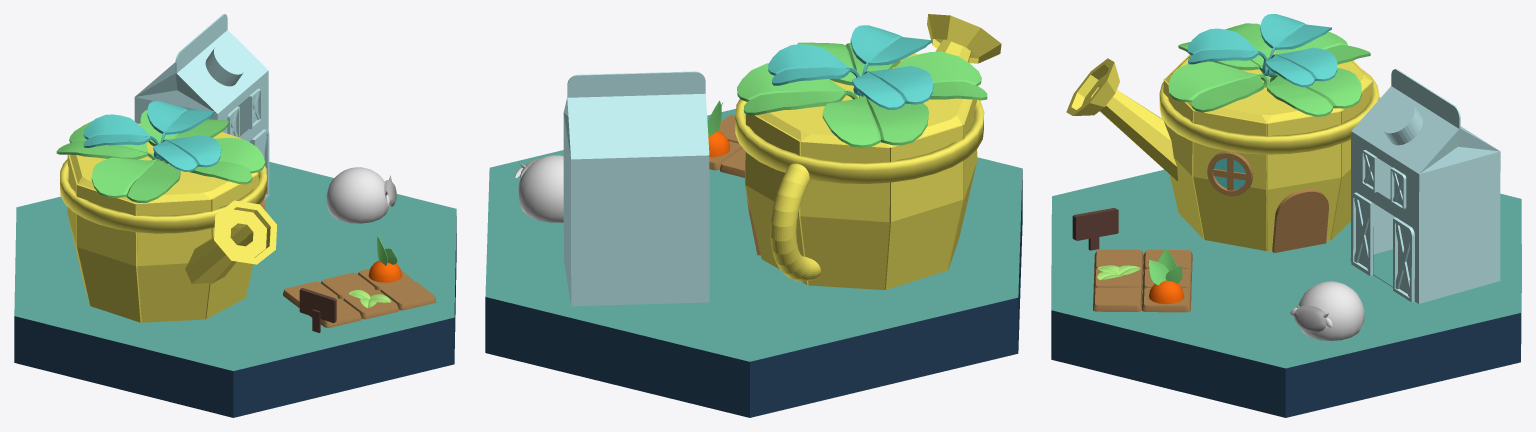
The model's file is Macro - farm barn lv3.fbx.
3 renders of one model, left to right at view 1: azimuth 30°, elevation 25°; view 2: azimuth 150°, elevation 25°; view 3: azimuth 270°, elevation 25°, orthographic. The views are drawn at different scales.
Visible parts, largest first — view 1: Cylinder.154, Cube.020, Milk_Carton_packet.002, Cube.012, Cube.047, Plane.009, Cube.046, Sphere.011, Plane.014, Plane.015, Plane.016, Cube.045 (+6 smaller); view 2: Cylinder.154, Milk_Carton_packet.002, Cube.020, Cube.047, Plane.005, Cube.005, Plane.020, Plane.016, Sphere.011, Plane.009, Plane.010, Plane.015 (+4 smaller); view 3: Cylinder.154, Milk_Carton_packet.002, Cube.020, Cube.012, Cube.047, Plane.014, Cube.033, Cube.045, Plane.020, Sphere.011, Plane.010, Plane.015 (+9 smaller).
Part boxes in pixels (bbox=[...]): Cylinder.154: bbox=[14, 162, 456, 417]; Cube.020: bbox=[67, 123, 258, 322]; Milk_Carton_packet.002: bbox=[134, 14, 269, 200]; Cube.012: bbox=[283, 268, 436, 327]; Cube.047: bbox=[60, 159, 266, 233]; Plane.009: bbox=[91, 157, 180, 202]; Cube.046: bbox=[214, 200, 276, 264]; Sphere.011: bbox=[326, 167, 388, 223]; Plane.014: bbox=[164, 138, 265, 184]; Plane.015: bbox=[153, 135, 221, 171]; Plane.016: bbox=[83, 114, 158, 159]; Cube.045: bbox=[185, 227, 247, 283]; Cylinder.154: bbox=[485, 108, 1022, 417]; Milk_Carton_packet.002: bbox=[563, 71, 709, 306]; Cube.020: bbox=[745, 53, 977, 289]; Cube.047: bbox=[735, 99, 984, 183]; Plane.005: bbox=[822, 95, 928, 147]; Cube.005: bbox=[770, 163, 820, 281]; Plane.020: bbox=[737, 63, 857, 115]; Plane.016: bbox=[852, 66, 933, 109]; Sphere.011: bbox=[518, 155, 563, 222]; Plane.009: bbox=[894, 51, 987, 100]; Plane.010: bbox=[768, 44, 860, 95]; Plane.015: bbox=[850, 25, 932, 75]; Cylinder.154: bbox=[1051, 169, 1521, 417]; Milk_Carton_packet.002: bbox=[1350, 69, 1500, 303]; Cube.020: bbox=[1163, 54, 1373, 250]; Cube.012: bbox=[1093, 249, 1192, 312]; Cube.047: bbox=[1159, 69, 1379, 154]; Plane.014: bbox=[1168, 61, 1269, 112]; Cube.033: bbox=[1272, 189, 1328, 252]; Cube.045: bbox=[1099, 90, 1177, 181]; Plane.020: bbox=[1267, 68, 1361, 117]; Sphere.011: bbox=[1298, 281, 1364, 340]; Plane.010: bbox=[1265, 47, 1337, 87]; Plane.015: bbox=[1187, 28, 1267, 75].
Size of the model in its own units: 197 by 94.02 by 172.
